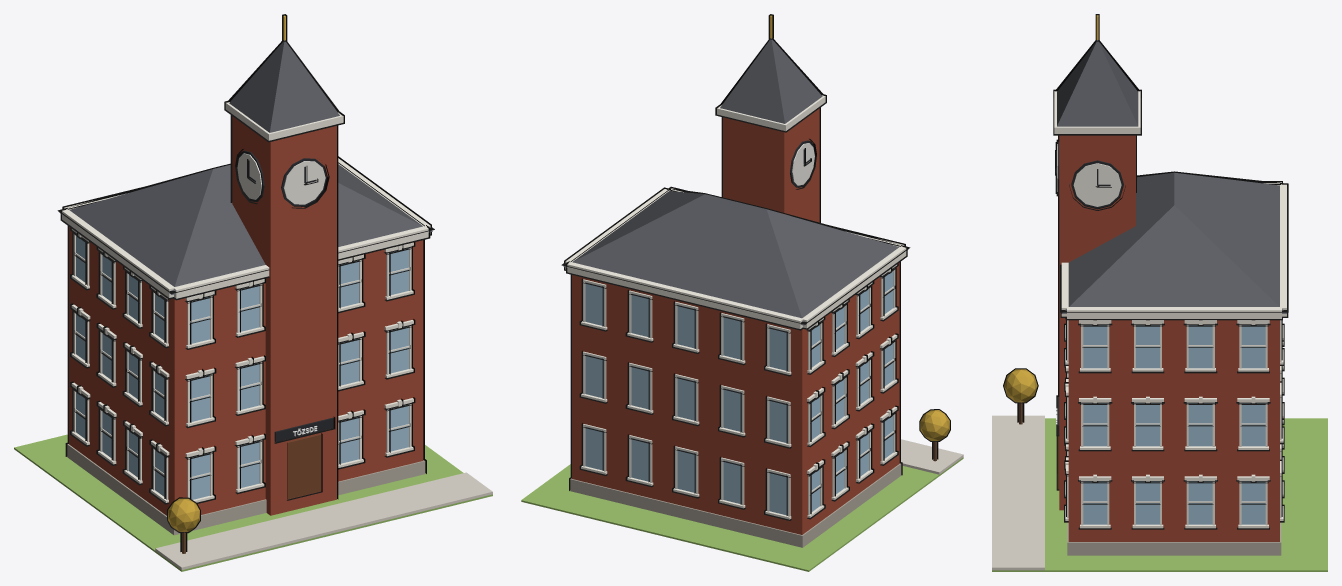
Rendered from Buro_saat_kuleli_3.fbx.
The picture shows the model from 3 angles, left to right: view 1: azimuth 30°, elevation 25°; view 2: azimuth 150°, elevation 25°; view 3: azimuth 270°, elevation 25°; orthographic projection. The views are drawn at different scales.
Visible parts, largest first — view 1: Buro_saat_kuleli_3; view 2: Buro_saat_kuleli_3; view 3: Buro_saat_kuleli_3.
Boxes of the visible parts, <box> form: Buro_saat_kuleli_3: <box>14,14,492,571</box>; Buro_saat_kuleli_3: <box>521,14,963,571</box>; Buro_saat_kuleli_3: <box>992,14,1327,571</box>.
Bounding box in the file's own units: 15 × 22.12 × 14.
